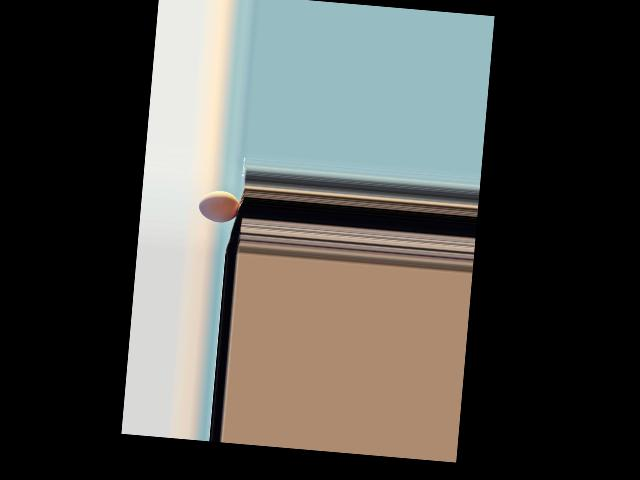egg: (197, 188, 240, 224)
